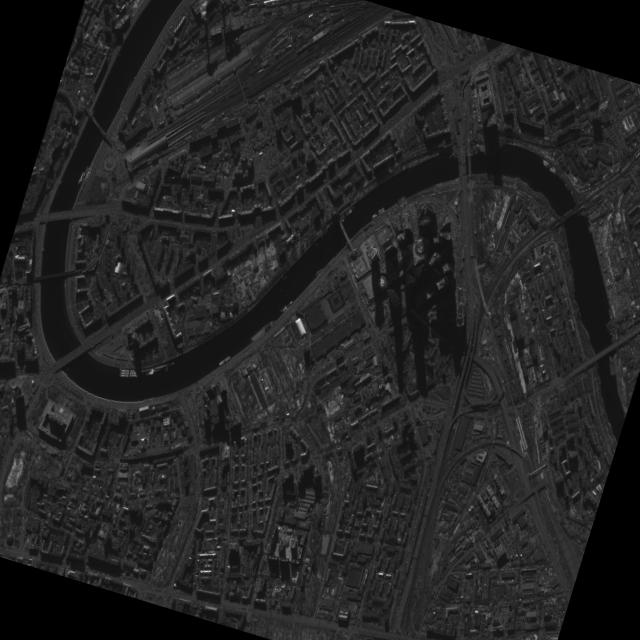ship: (218, 354, 229, 364), (76, 170, 83, 183), (278, 303, 285, 311), (610, 360, 614, 373), (608, 362, 612, 374), (377, 208, 384, 214), (118, 367, 128, 371), (344, 208, 350, 214), (345, 208, 351, 214), (128, 368, 139, 371), (144, 370, 152, 374), (281, 305, 286, 311), (286, 299, 291, 305), (377, 206, 383, 211), (377, 207, 383, 212), (371, 213, 377, 218), (128, 373, 138, 376), (117, 370, 127, 373), (117, 373, 127, 376), (153, 367, 160, 371), (370, 211, 375, 216), (608, 354, 611, 362), (281, 304, 285, 309), (128, 371, 138, 373), (314, 269, 318, 273), (372, 212, 376, 216), (610, 355, 612, 361), (164, 366, 166, 371), (165, 365, 167, 369)
storage-tank: (4, 530, 13, 541), (150, 405, 154, 409), (469, 504, 472, 507), (467, 507, 470, 510), (204, 403, 206, 406), (274, 52, 276, 54), (276, 51, 277, 53)
